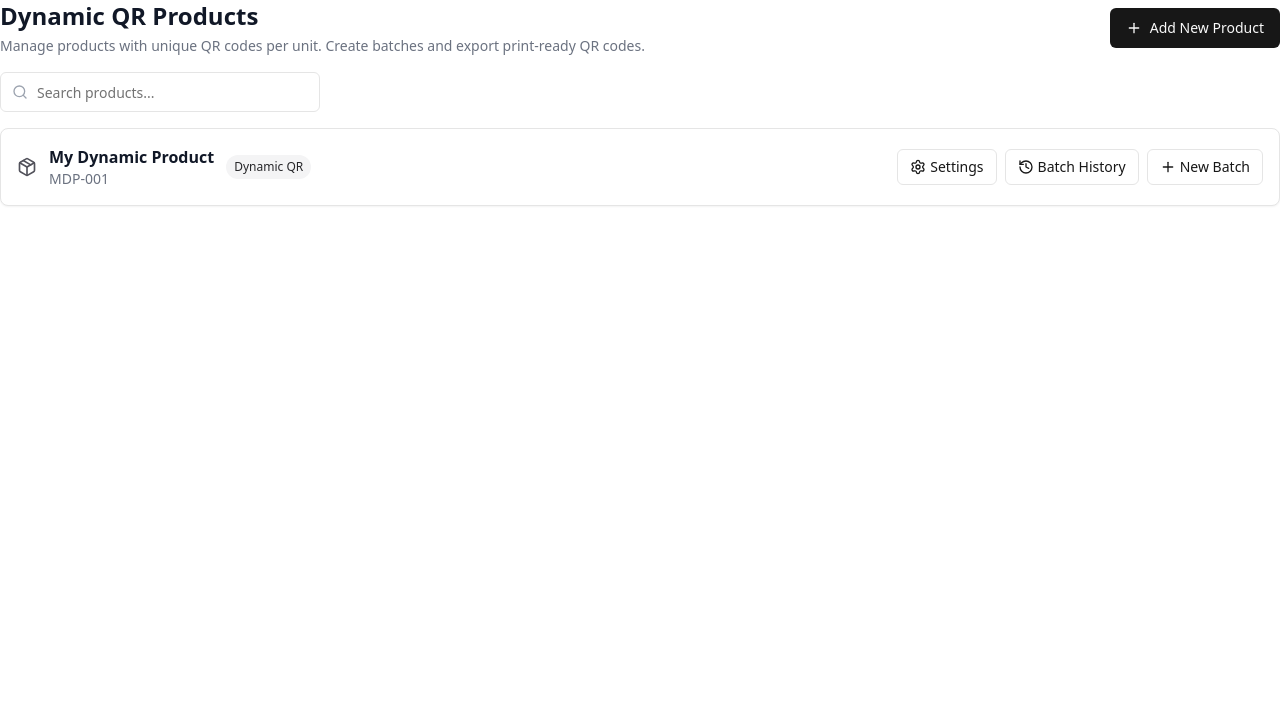
Test case: DynamicQRPage › Create Batch Modal › should pass the selected product name to the modal
Click the button "New Batch" at (1205, 167), box [1147,149,1263,185]
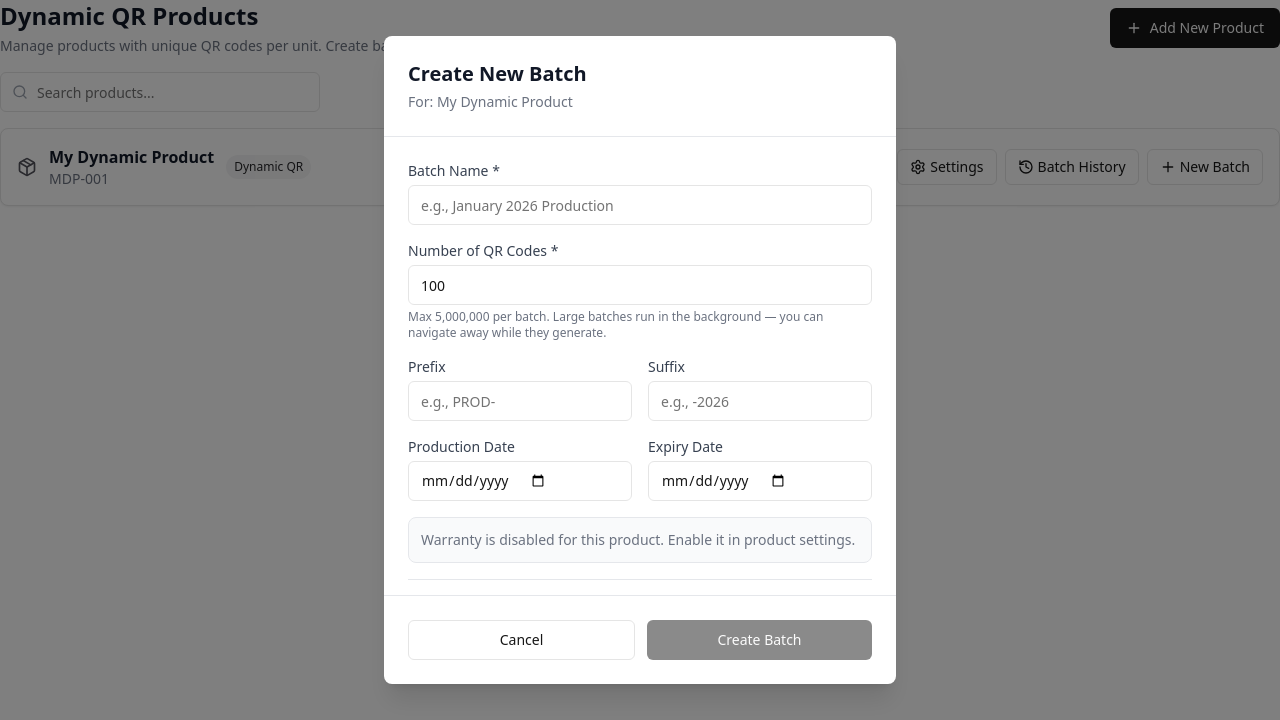
Expected: the text "For: My Dynamic Product" is shown, [408,92,573,111]
